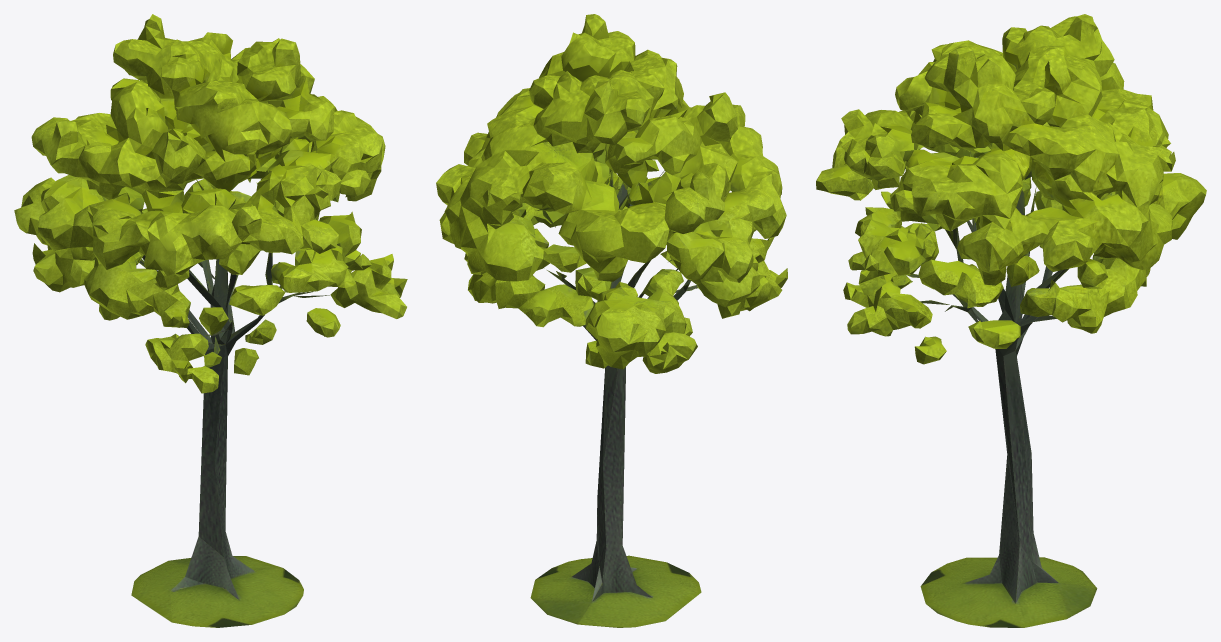
File: ginkgo.glb
3 renders of one model, left to right at view 1: azimuth 30°, elevation 25°; view 2: azimuth 150°, elevation 25°; view 3: azimuth 270°, elevation 25°, orthographic. The views are drawn at different scales.
Size of the model in its own units: 1.1 by 1.87 by 1.17.
1 material, 1 textured.
